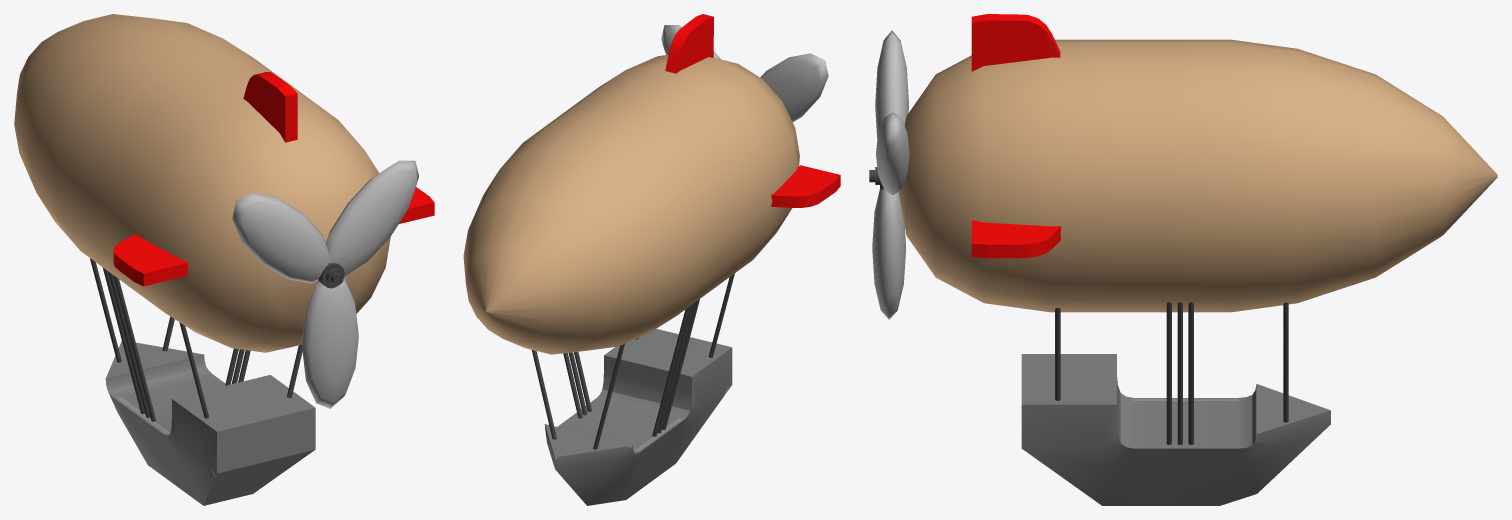
The model's file is airship.glb.
3 renders of one model, left to right at view 1: azimuth 30°, elevation 25°; view 2: azimuth 150°, elevation 25°; view 3: azimuth 270°, elevation 25°, orthographic. The views are drawn at different scales.
Parts seen in each view (by area): view 1: Cylinder020; view 2: Cylinder020; view 3: Cylinder020.
Boxes of the visible parts, x1=… form: Cylinder020: x1=14, y1=14, x2=434, y2=505; Cylinder020: x1=463, y1=14, x2=840, y2=505; Cylinder020: x1=869, y1=14, x2=1497, y2=505.
Size of the model in its own units: 0.668 by 0.9758 by 1.17.
5 materials, 5 textured.
